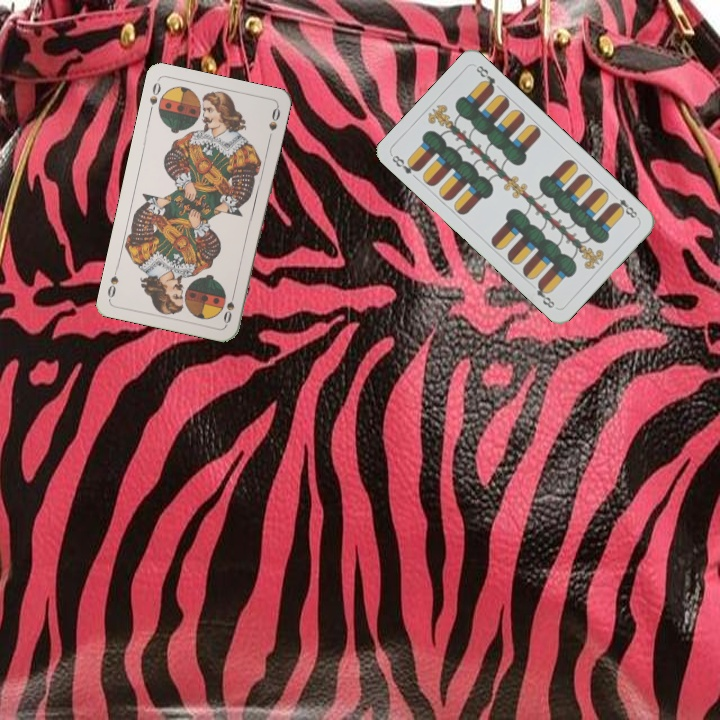E8: (608, 195, 641, 222), (388, 151, 422, 177)
SO: (219, 286, 238, 327), (145, 78, 163, 117)
